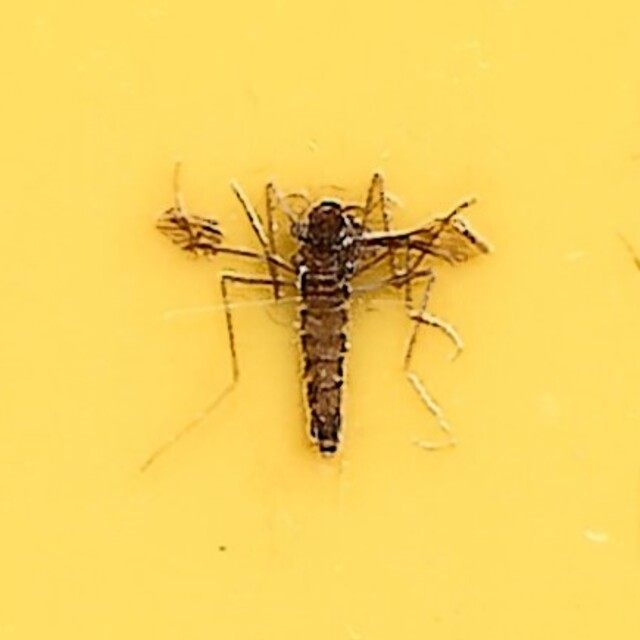Nematocera: (147, 170, 493, 470)
